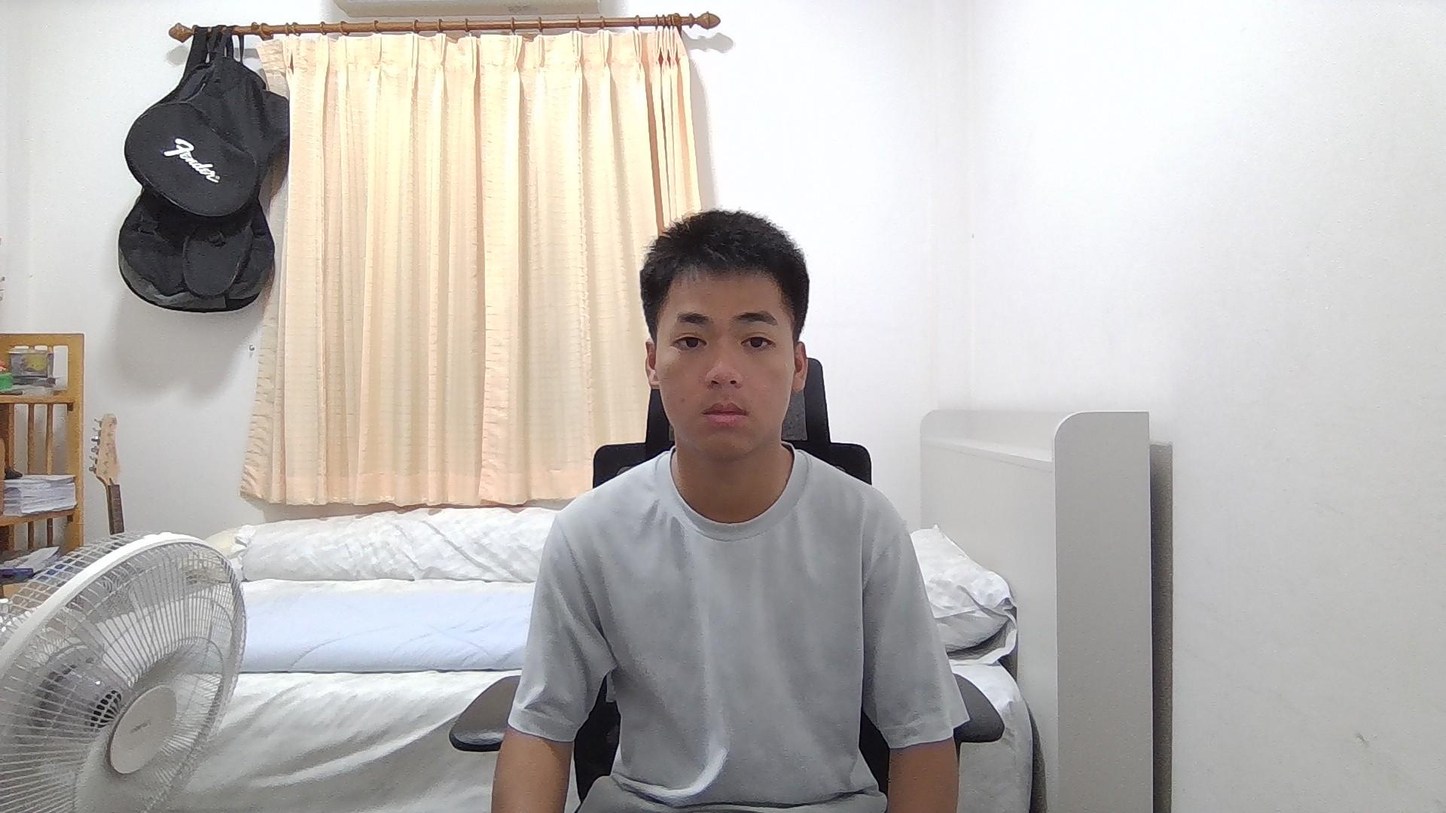GoodPosture: (493, 210, 965, 812)
